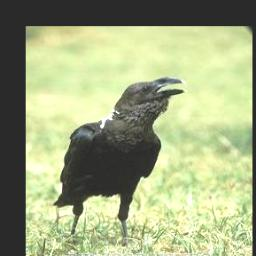Crow: (49, 72, 191, 251)
